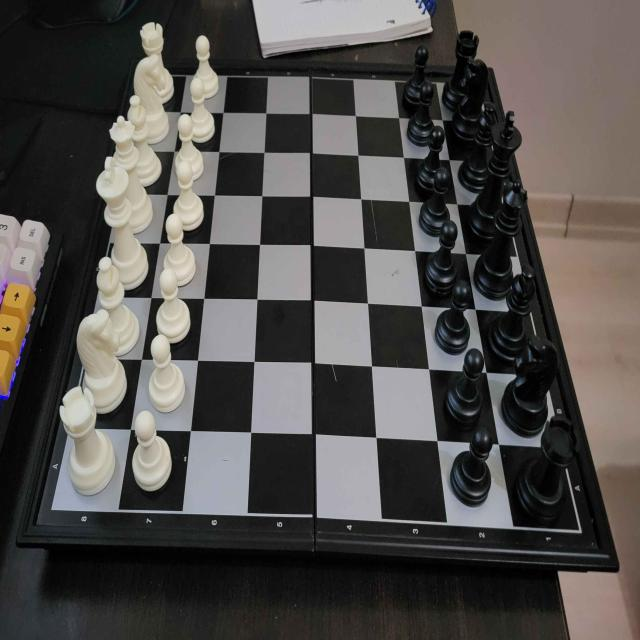black-bishop: (491, 260, 538, 357), (462, 100, 500, 191)
black-king: (469, 107, 517, 229)
black-knight: (504, 332, 562, 442), (450, 58, 490, 146)
black-pawn: (448, 419, 497, 511), (441, 344, 486, 428), (433, 276, 473, 353), (424, 219, 460, 294), (415, 124, 447, 193), (407, 80, 436, 148), (422, 164, 450, 230), (403, 43, 432, 106)
black-queen: (479, 178, 528, 297)
black-rook: (519, 409, 574, 517), (444, 24, 482, 107)
chess-board: (25, 65, 599, 551)
white-bishop: (93, 252, 142, 362), (126, 92, 163, 184)
white-king: (94, 155, 148, 293)
white-knight: (72, 307, 130, 418), (133, 53, 169, 141)
white-pawn: (130, 410, 174, 495), (148, 332, 186, 416), (156, 267, 193, 349), (172, 160, 206, 232), (162, 212, 195, 286), (173, 111, 204, 180), (189, 76, 215, 145), (193, 34, 220, 100)
white-queen: (108, 114, 148, 226)
white-rook: (58, 385, 119, 500), (139, 20, 165, 58)
